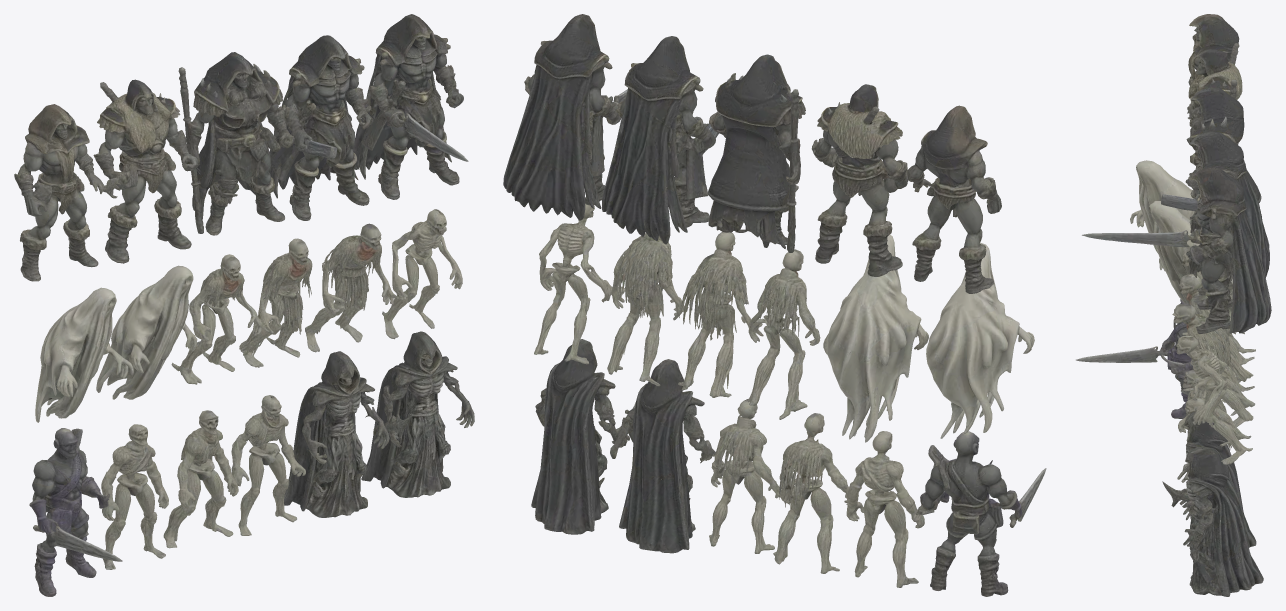
Rendered from enemies_undead_a.glb.
The picture shows the model from 3 angles, left to right: view 1: azimuth 30°, elevation 25°; view 2: azimuth 150°, elevation 25°; view 3: azimuth 270°, elevation 25°; orthographic projection. The views are drawn at different scales.
Size of the model in its own units: 1.88 by 1.9 by 0.8036.
Materials: 1 (1 with a texture image).
